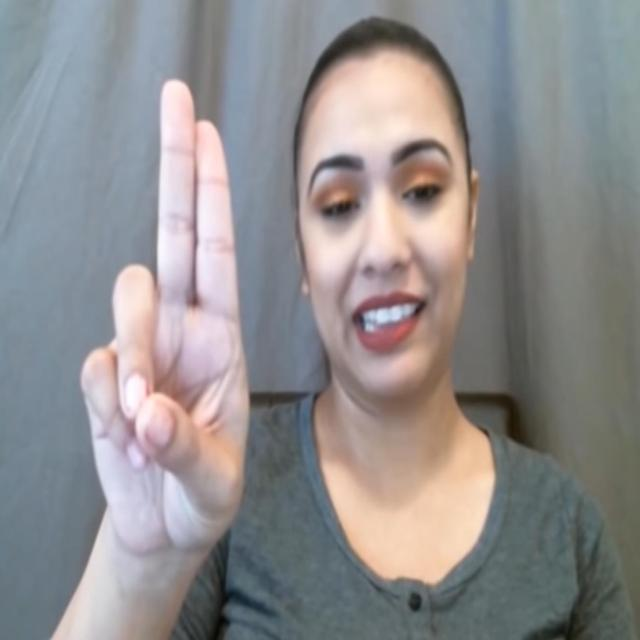U: (77, 74, 254, 561)
